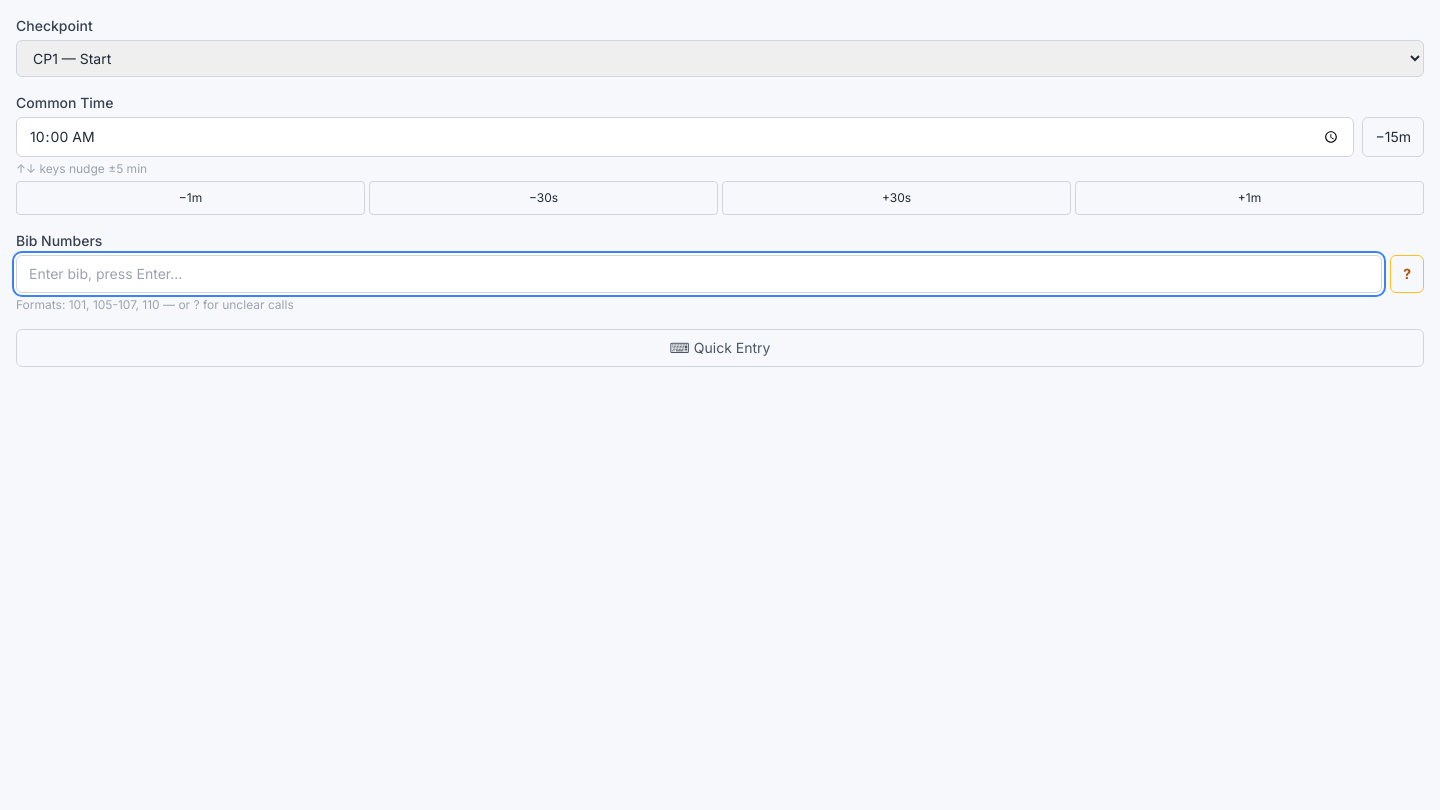
Scenario: InputSection — Quick Entry panel › Numpad › pressing digits composes a number in the display
Click the button "⌨ Quick Entry" at {"x": 720, "y": 348}, box x1=16 y1=329 x2=1424 y2=367
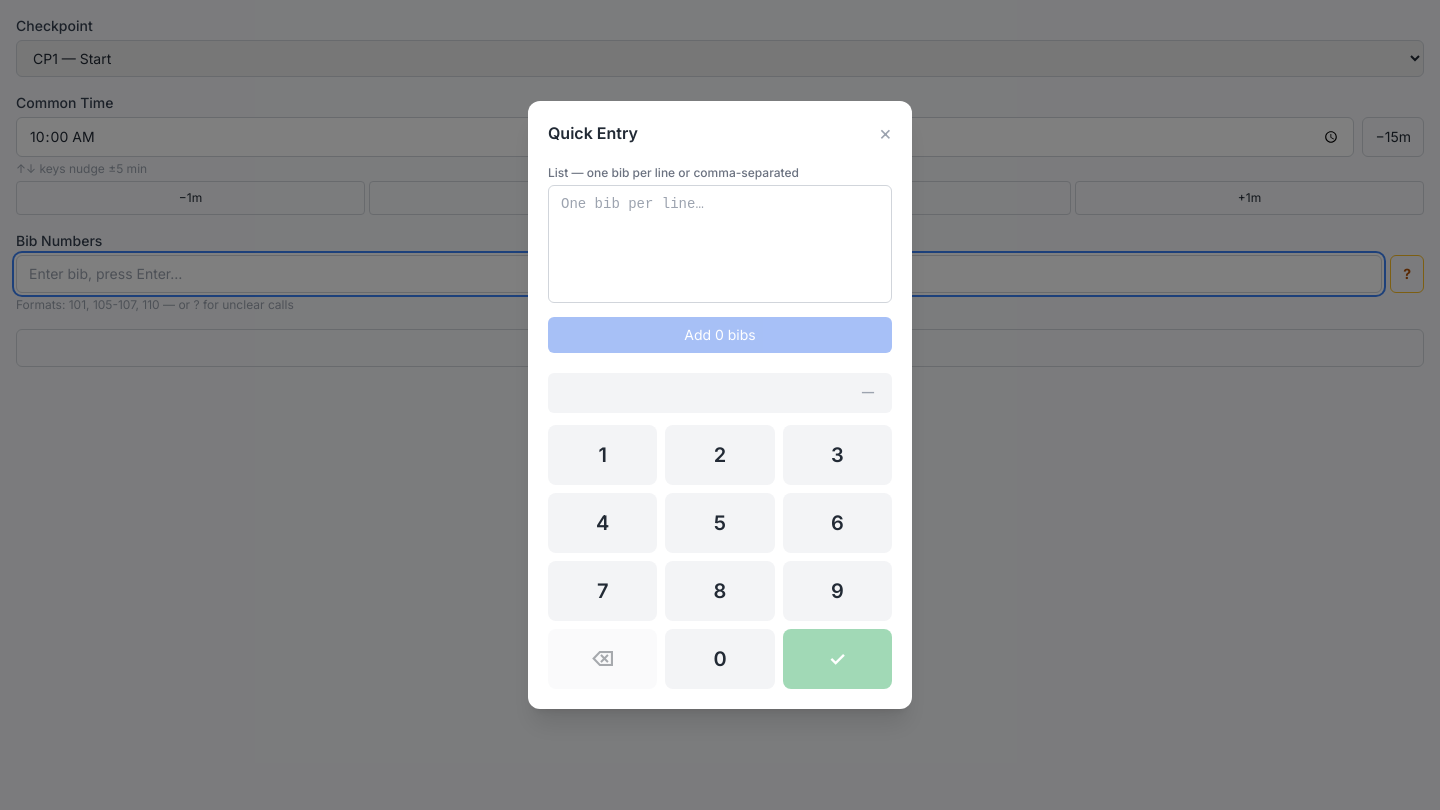
Click the button named "Digit 1" at {"x": 603, "y": 455}, box x1=548 y1=425 x2=657 y2=485
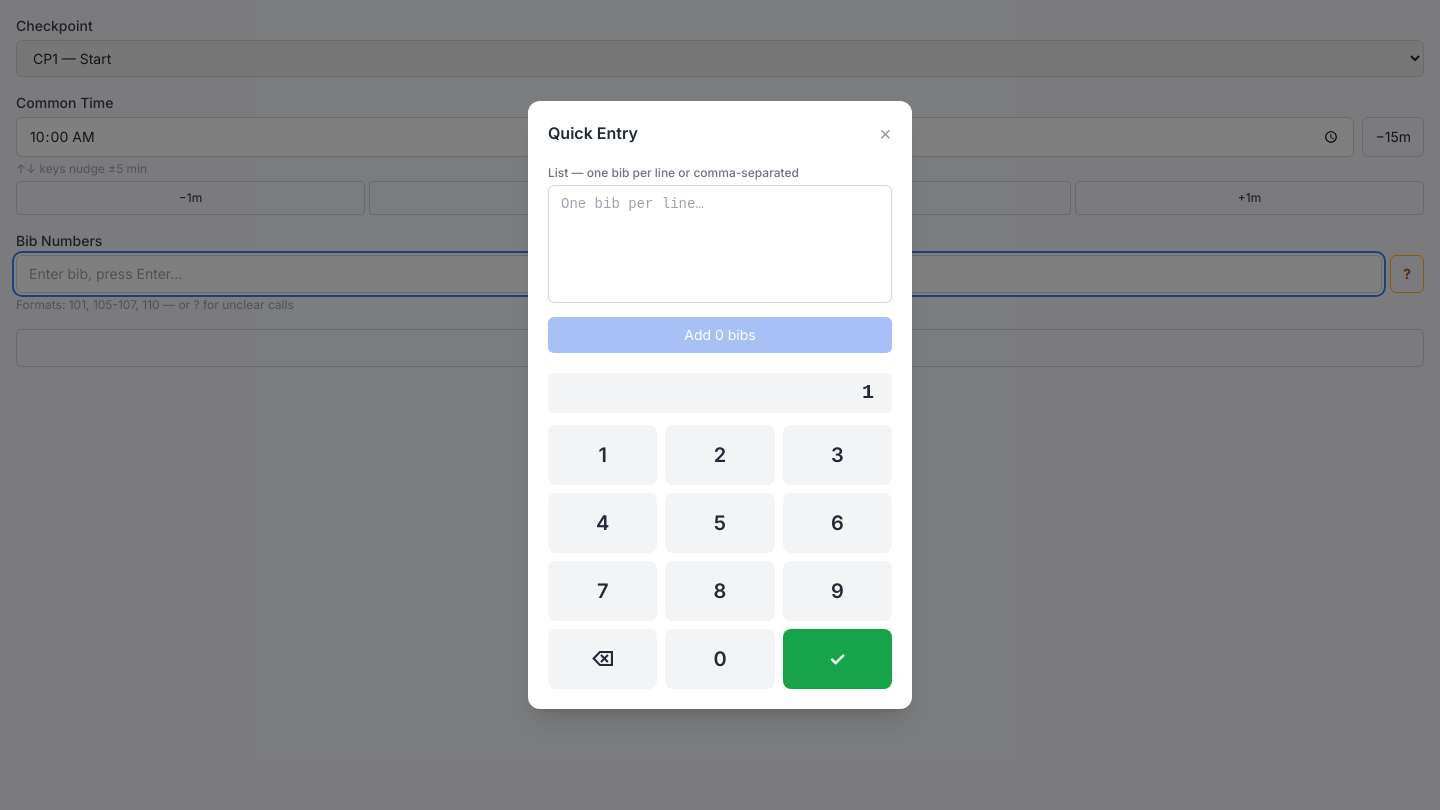
Click the button named "Digit 1" at {"x": 603, "y": 455}, box x1=548 y1=425 x2=657 y2=485
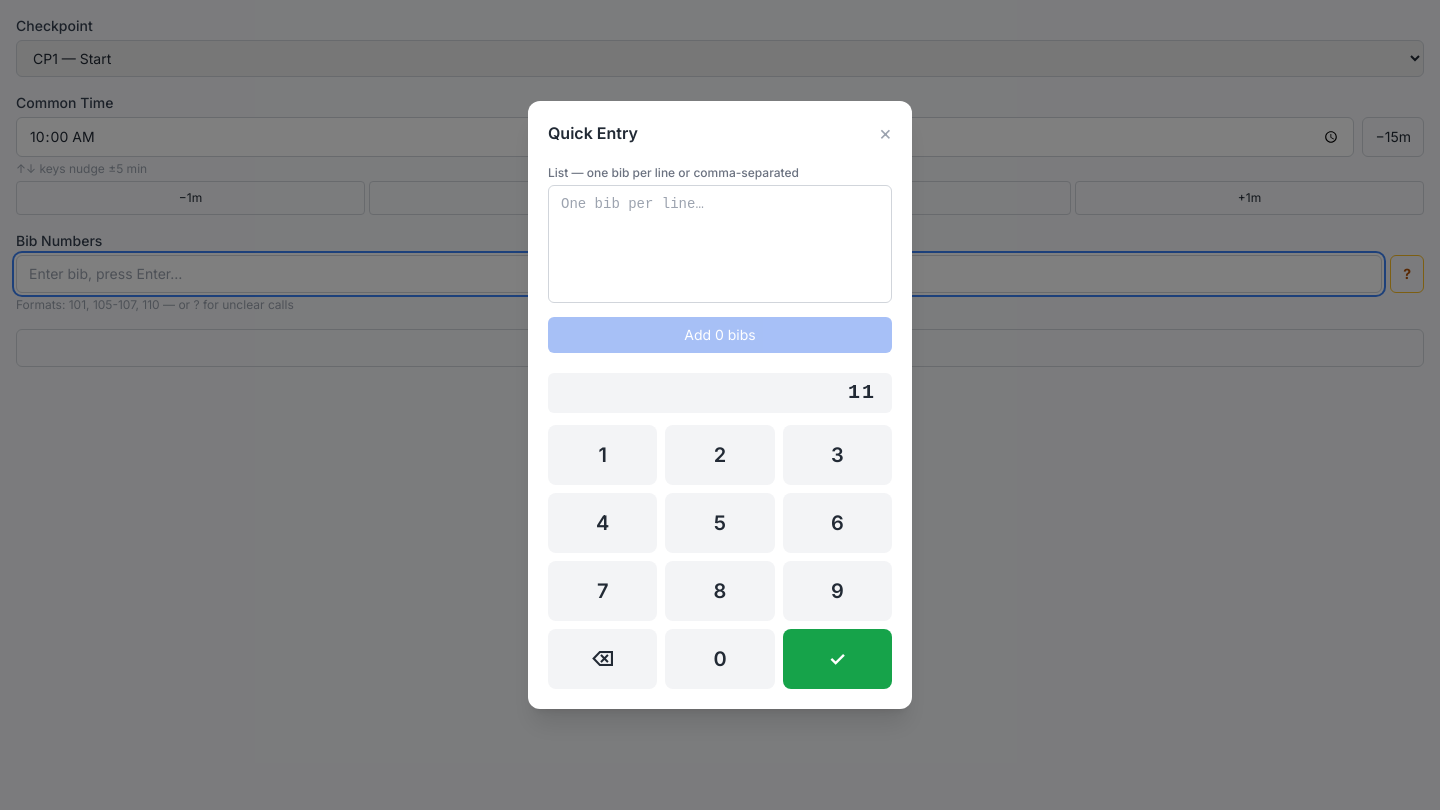
Click the button named "Digit 2" at {"x": 720, "y": 455}, box x1=665 y1=425 x2=775 y2=485
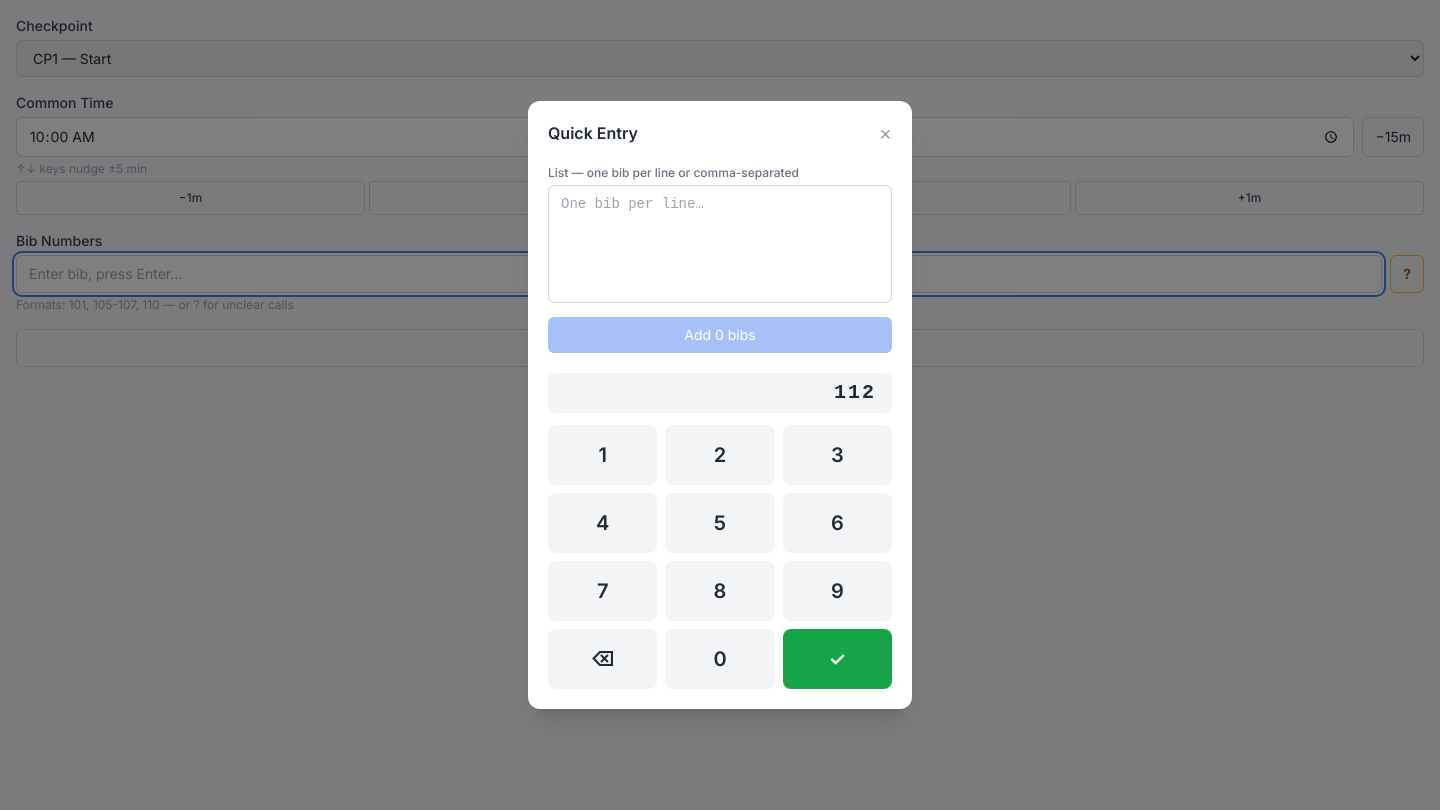
Check: the text with test id "numpad-display" reads "112", box x1=834 y1=381 x2=876 y2=404
